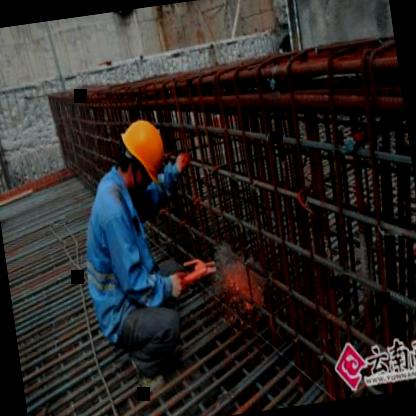helmet: (101, 109, 176, 199)
